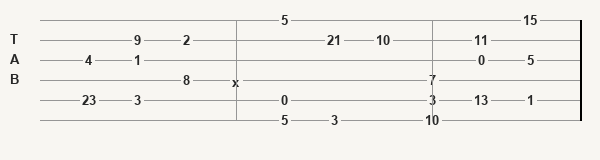0: (281, 93, 292, 107), (478, 53, 489, 67)
1: (134, 53, 145, 67), (527, 93, 538, 107)
10: (376, 33, 394, 47), (425, 113, 443, 127)
11: (474, 33, 492, 47)
13: (474, 93, 492, 107)
15: (523, 13, 541, 27)
2: (183, 33, 194, 47)
21: (327, 33, 345, 47)
23: (82, 93, 100, 107)
3: (134, 93, 145, 107), (331, 113, 342, 127), (429, 93, 440, 107)
4: (85, 53, 96, 67)
5: (281, 113, 292, 127), (281, 13, 292, 27), (527, 53, 538, 67)
7: (429, 73, 440, 87)
8: (183, 73, 194, 87)
9: (134, 33, 145, 47)
x: (232, 75, 244, 86)
